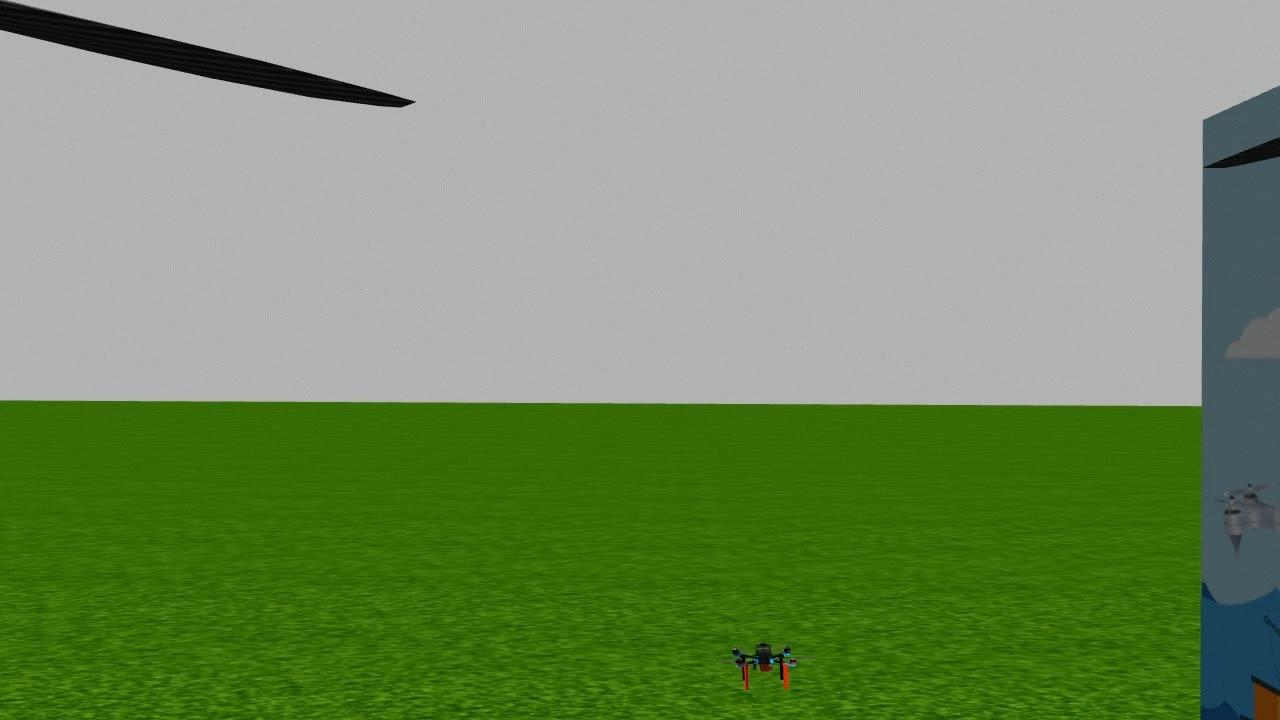UAV: (712, 624, 819, 694)
